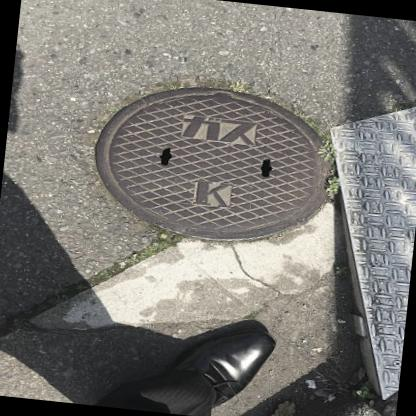manholes: (78, 64, 356, 269)
